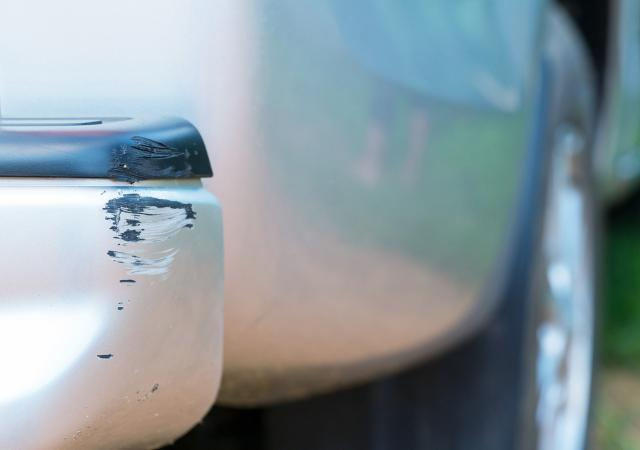scratch: (100, 133, 195, 315)
